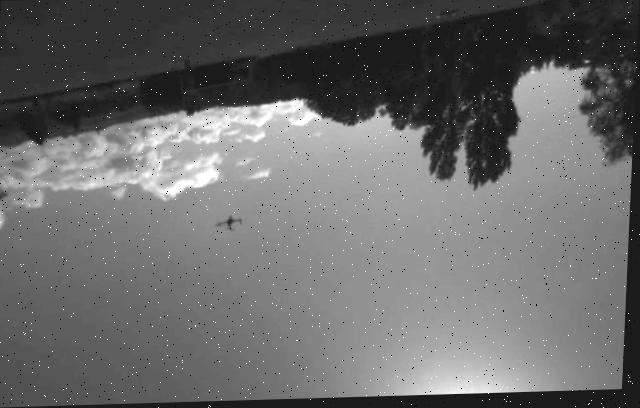drone: (216, 215, 244, 234)
